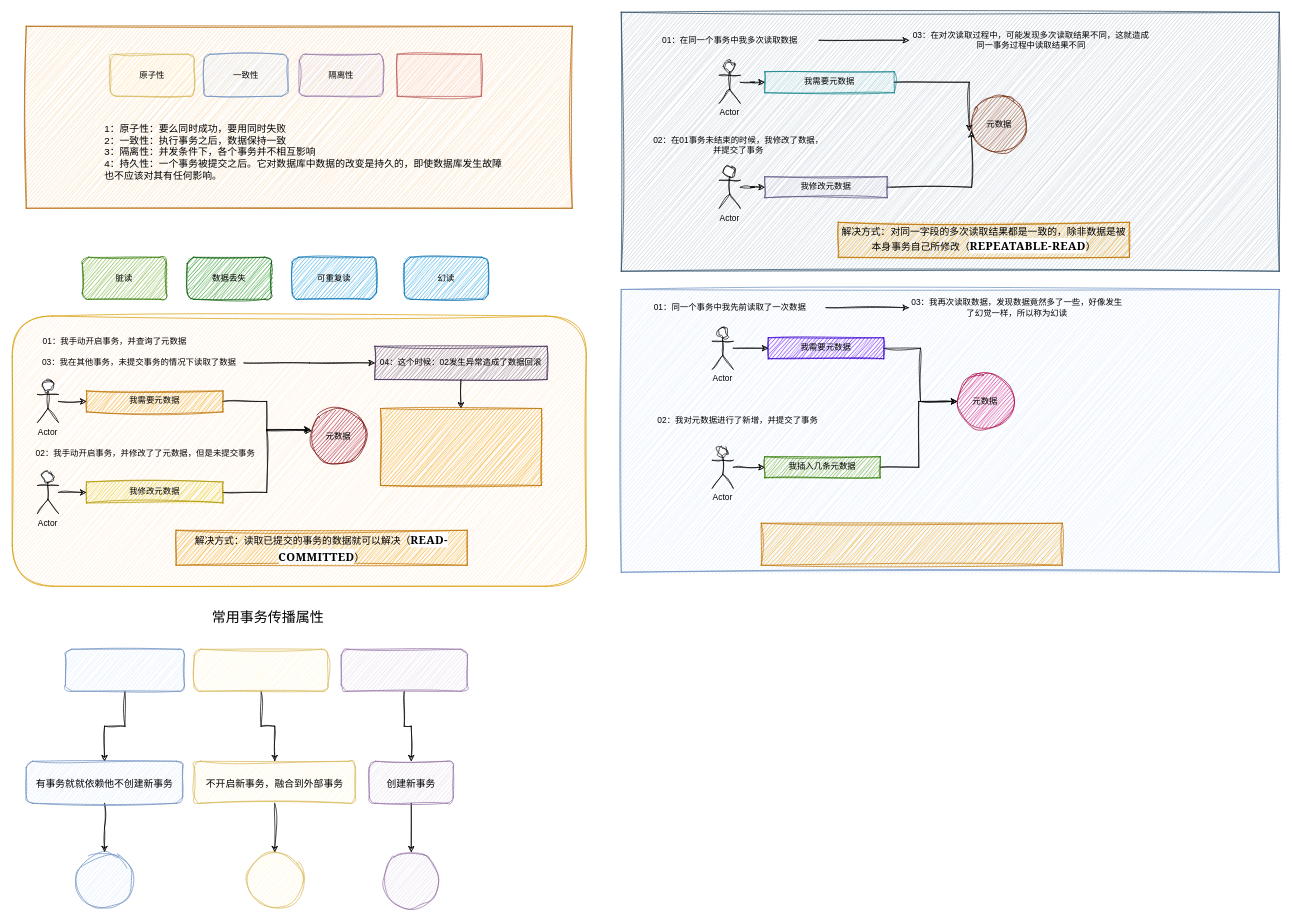
This 1292x921 diagram has some shape labels left out. The shapes that lost their labels are listed below. From the top down, each one's box as (x1, y1, x2, y2) in pixels, then its label:
(397, 54, 481, 96): 持久性
(380, 408, 541, 485): 05：这个时候我们读取的是02：事务修改的数据，但是发生了异常数据库其实并未修改，就造成了脏读
(761, 523, 1062, 565): 解决方式：最高的隔离级别，完全服从ACID的隔离级别。所有的事务依次逐个执行，这样事务之间就完全不可能产生干扰，也就是说 （ SERIALIZABLE ）
(65, 649, 184, 691): REQUIRED
(194, 649, 328, 691): SUPPORTS
(341, 649, 467, 691): REQUIRES_NEW
(76, 852, 133, 908): 增删改
(246, 852, 303, 908): 查询
(383, 852, 439, 908): 日志
